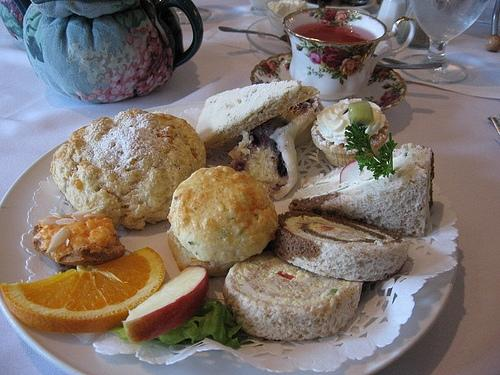apple: (121, 266, 210, 344)
lettuce: (154, 296, 270, 350), (105, 326, 128, 340)
orange: (0, 246, 165, 334)
